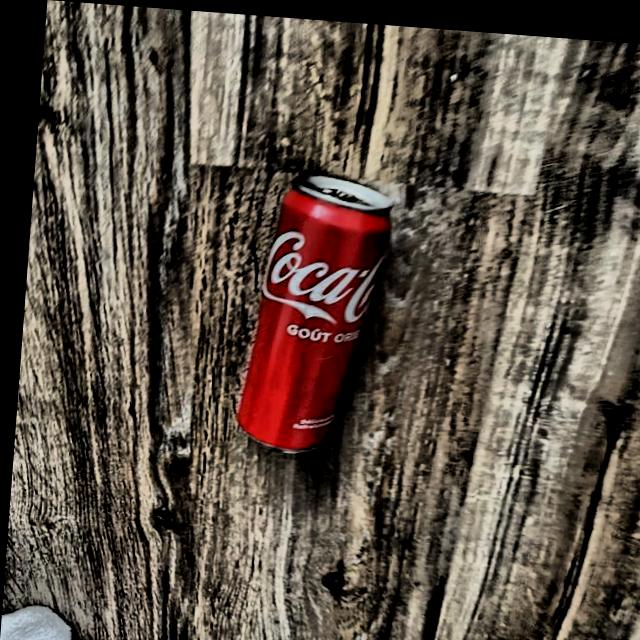can: (224, 156, 390, 456)
